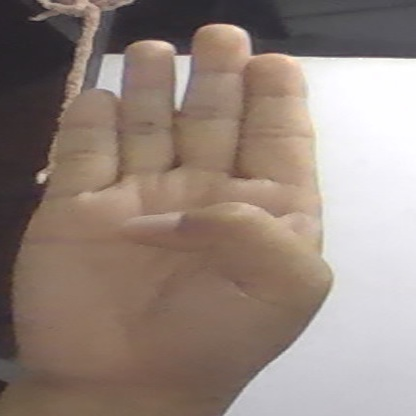B: (11, 23, 336, 399)
